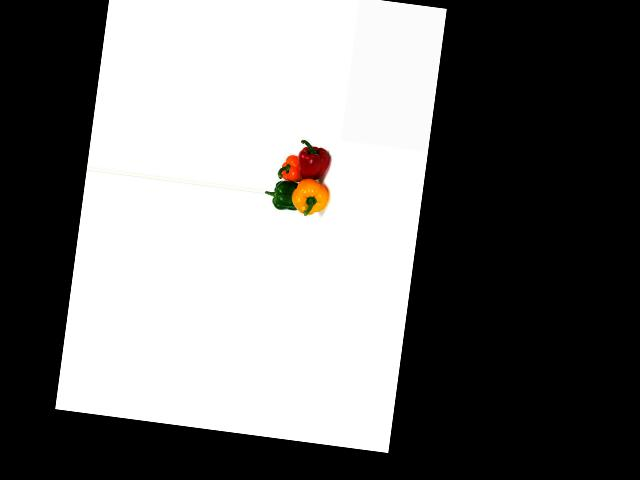bell_pepper: (289, 175, 332, 221)
